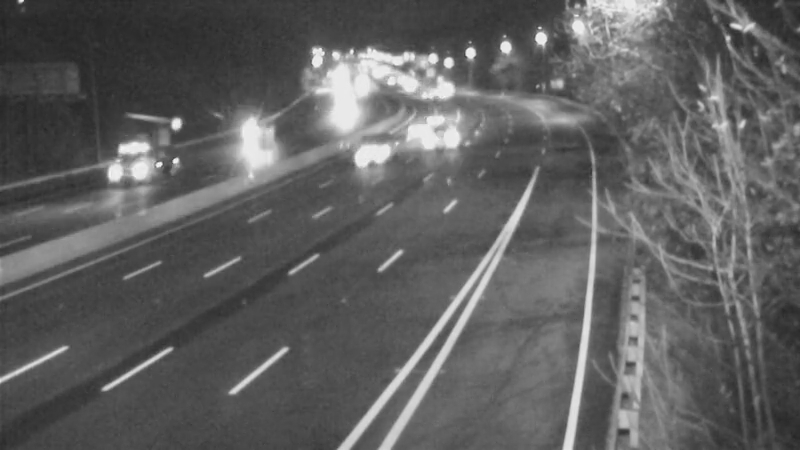vehicle: (335, 111, 415, 191), (88, 133, 168, 213), (407, 91, 457, 141), (393, 103, 443, 153), (417, 112, 467, 162), (223, 107, 273, 157), (319, 83, 369, 133)
